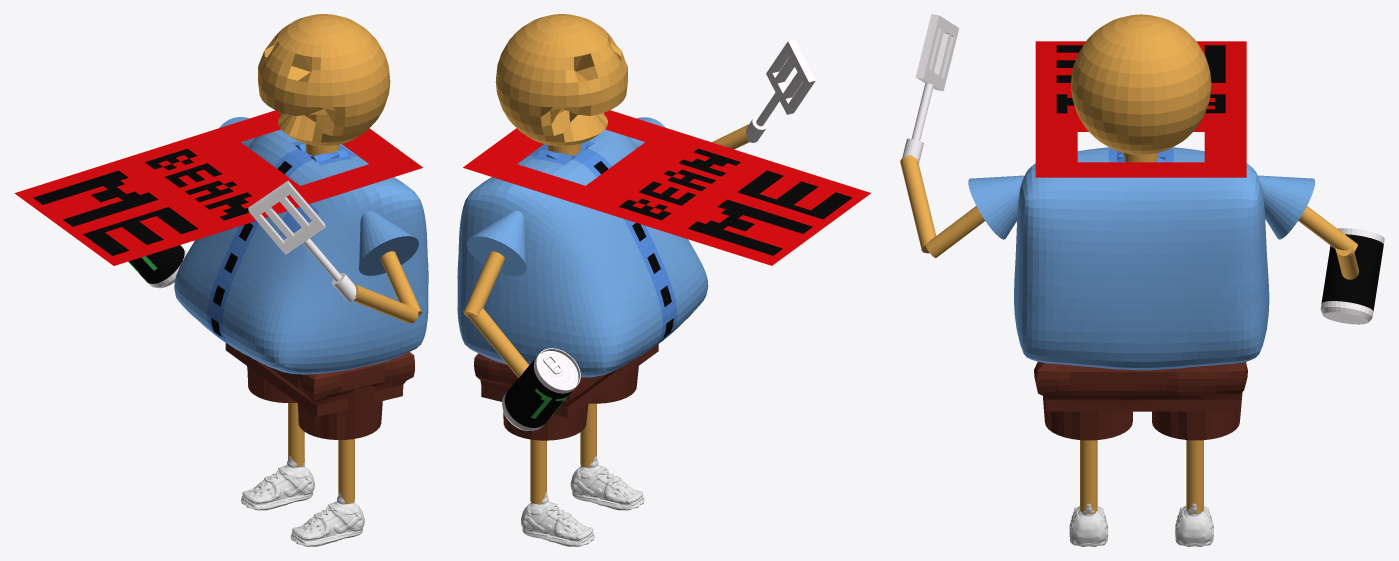
File: enemy.fbx
The picture shows the model from 3 angles, left to right: view 1: azimuth 30°, elevation 25°; view 2: azimuth 150°, elevation 25°; view 3: azimuth 270°, elevation 25°; orthographic projection. The views are drawn at different scales.
Parts seen in each view (by area): view 1: Cube.001, Grid, Sphere, Cylinder.001, Cylinder.003, Cone.001, Cube.002, Cube.003, Cylinder.007, Cylinder.005, Cylinder.002, Cylinder; view 2: Cube.001, Grid, Sphere, Cylinder.001, Cylinder.005, Cylinder.003, Cone, Cylinder.008, Cube.003, Cube.002, Cylinder, Cylinder.002; view 3: Cube.001, Sphere, Cylinder.001, Grid, Cylinder.005, Cylinder.003, Cylinder.007, Cone, Cone.001, Cylinder.008, Cube.003, Cube.002 (+2 smaller).
Boxes of the visible parts, x1,y1,x2,y2 form: Cube.001: (174,129,428,374); Grid: (14,110,422,265); Sphere: (258,14,390,146); Cylinder.001: (225,343,414,439); Cylinder.003: (248,180,356,301); Cone.001: (359,211,418,275); Cube.002: (241,455,314,510); Cube.003: (290,492,364,546); Cylinder.007: (352,251,421,323); Cylinder.005: (128,245,186,288); Cylinder.002: (338,439,354,503); Cylinder: (288,403,304,467); Cube.001: (457,129,708,377); Grid: (463,110,870,265); Sphere: (495,14,627,146); Cylinder.001: (474,344,658,440); Cylinder.005: (502,348,580,430); Cylinder.003: (746,39,815,142); Cone: (466,211,526,275); Cylinder.008: (463,251,529,377); Cube.003: (570,456,644,510); Cube.002: (521,492,594,546); Cylinder: (530,439,546,504); Cylinder.002: (580,403,596,467); Cube.001: (1014,147,1269,370); Sphere: (1070,14,1211,154); Cylinder.001: (1034,362,1247,440); Grid: (1035,41,1246,177); Cylinder.005: (1320,228,1384,324); Cylinder.003: (900,14,959,164); Cylinder.007: (900,155,984,257); Cone: (1257,175,1315,239); Cone.001: (968,175,1024,239); Cylinder.008: (1298,206,1358,279); Cube.003: (1069,503,1108,546); Cube.002: (1175,503,1213,546).
Bounding box in the file's own units: 2217 × 3277 × 2752.
